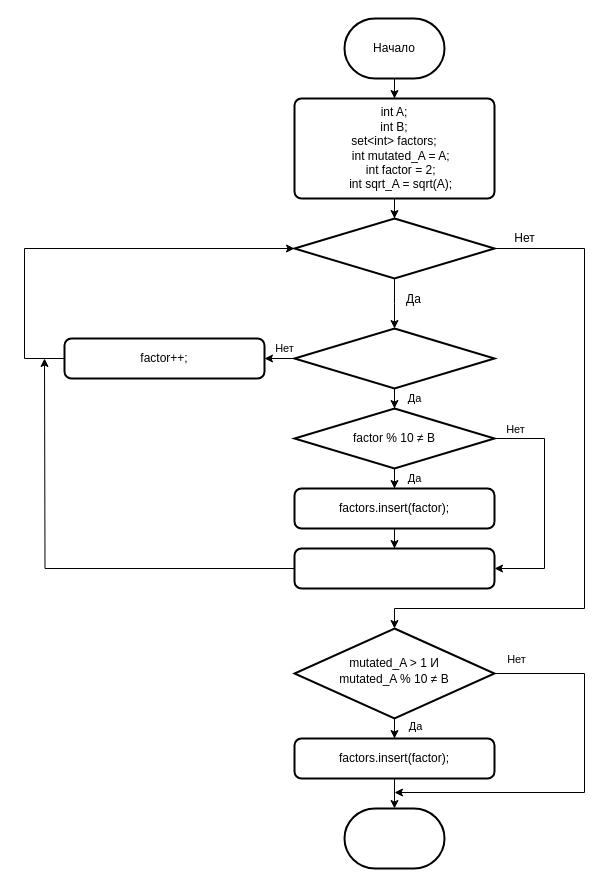
This 610x886 diagram has some shape labels left out. Here are the shapes that lost their labels. From the top down, the box of each, then its label:
(293, 217, 495, 279): factor ≤ sqrt_A
(293, 327, 495, 389): mutated_A % factor = 0
(293, 547, 495, 589): mutated_A /= factor;
(343, 807, 445, 869): Конец (вернуть factors)
